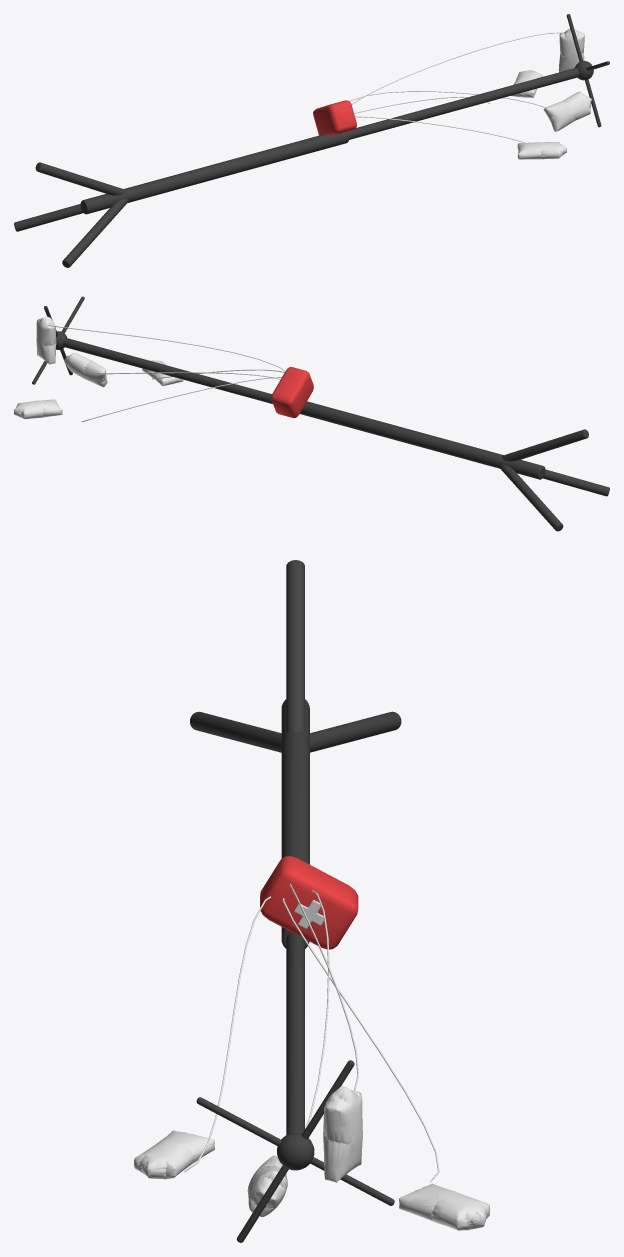
File: iv-stand-tipped.fbx
3 renders of one model, top to bottom at view 1: azimuth 30°, elevation 25°; view 2: azimuth 150°, elevation 25°; view 3: azimuth 270°, elevation 25°, orthographic. The views are drawn at different scales.
Visible parts, largest first — view 1: IV pole.001, Cube.002, IV Bag 4.001, IV Bag 3.001, IV Bag 1.001, IV Bag 2.001; view 2: IV pole.001, Cube.002, IV Bag 3.001, IV Bag 4.001, IV Bag 2.001, BézierCurve.005, IV Bag 1.001; view 3: IV pole.001, Cube.002, IV Bag 3.001, IV Bag 2.001, IV Bag 1.001, IV Bag 4.001.
Part boxes in pixels (x1,y1,x2,y2): IV pole.001: [14, 14, 609, 267]; Cube.002: [313, 100, 356, 135]; IV Bag 4.001: [543, 91, 591, 131]; IV Bag 3.001: [558, 28, 584, 72]; IV Bag 1.001: [517, 142, 566, 159]; IV Bag 2.001: [511, 70, 542, 97]; IV pole.001: [32, 296, 609, 531]; Cube.002: [271, 367, 313, 418]; IV Bag 3.001: [36, 316, 56, 364]; IV Bag 4.001: [64, 352, 107, 387]; IV Bag 2.001: [14, 399, 62, 419]; BézierCurve.005: [48, 325, 285, 371]; IV Bag 1.001: [142, 360, 183, 386]; IV pole.001: [190, 560, 401, 1242]; Cube.002: [260, 856, 358, 949]; IV Bag 3.001: [323, 1086, 362, 1182]; IV Bag 2.001: [399, 1183, 489, 1230]; IV Bag 1.001: [134, 1130, 214, 1179]; IV Bag 4.001: [247, 1155, 287, 1217].
Bounding box in the file's own units: 167 × 26.66 × 47.83.
